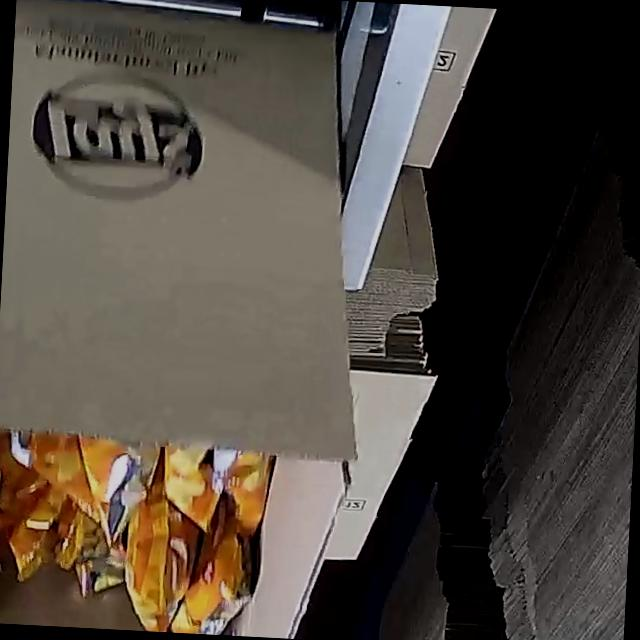cheese: (0, 419, 311, 639)
